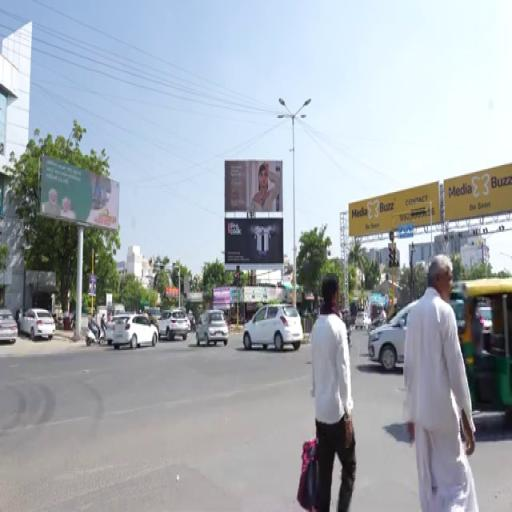Car: (368, 302, 416, 371), (243, 305, 303, 351), (112, 315, 158, 349), (20, 309, 55, 341), (196, 311, 228, 345), (158, 309, 188, 341), (106, 313, 130, 345), (0, 309, 17, 344), (479, 306, 492, 334), (355, 312, 371, 329)
